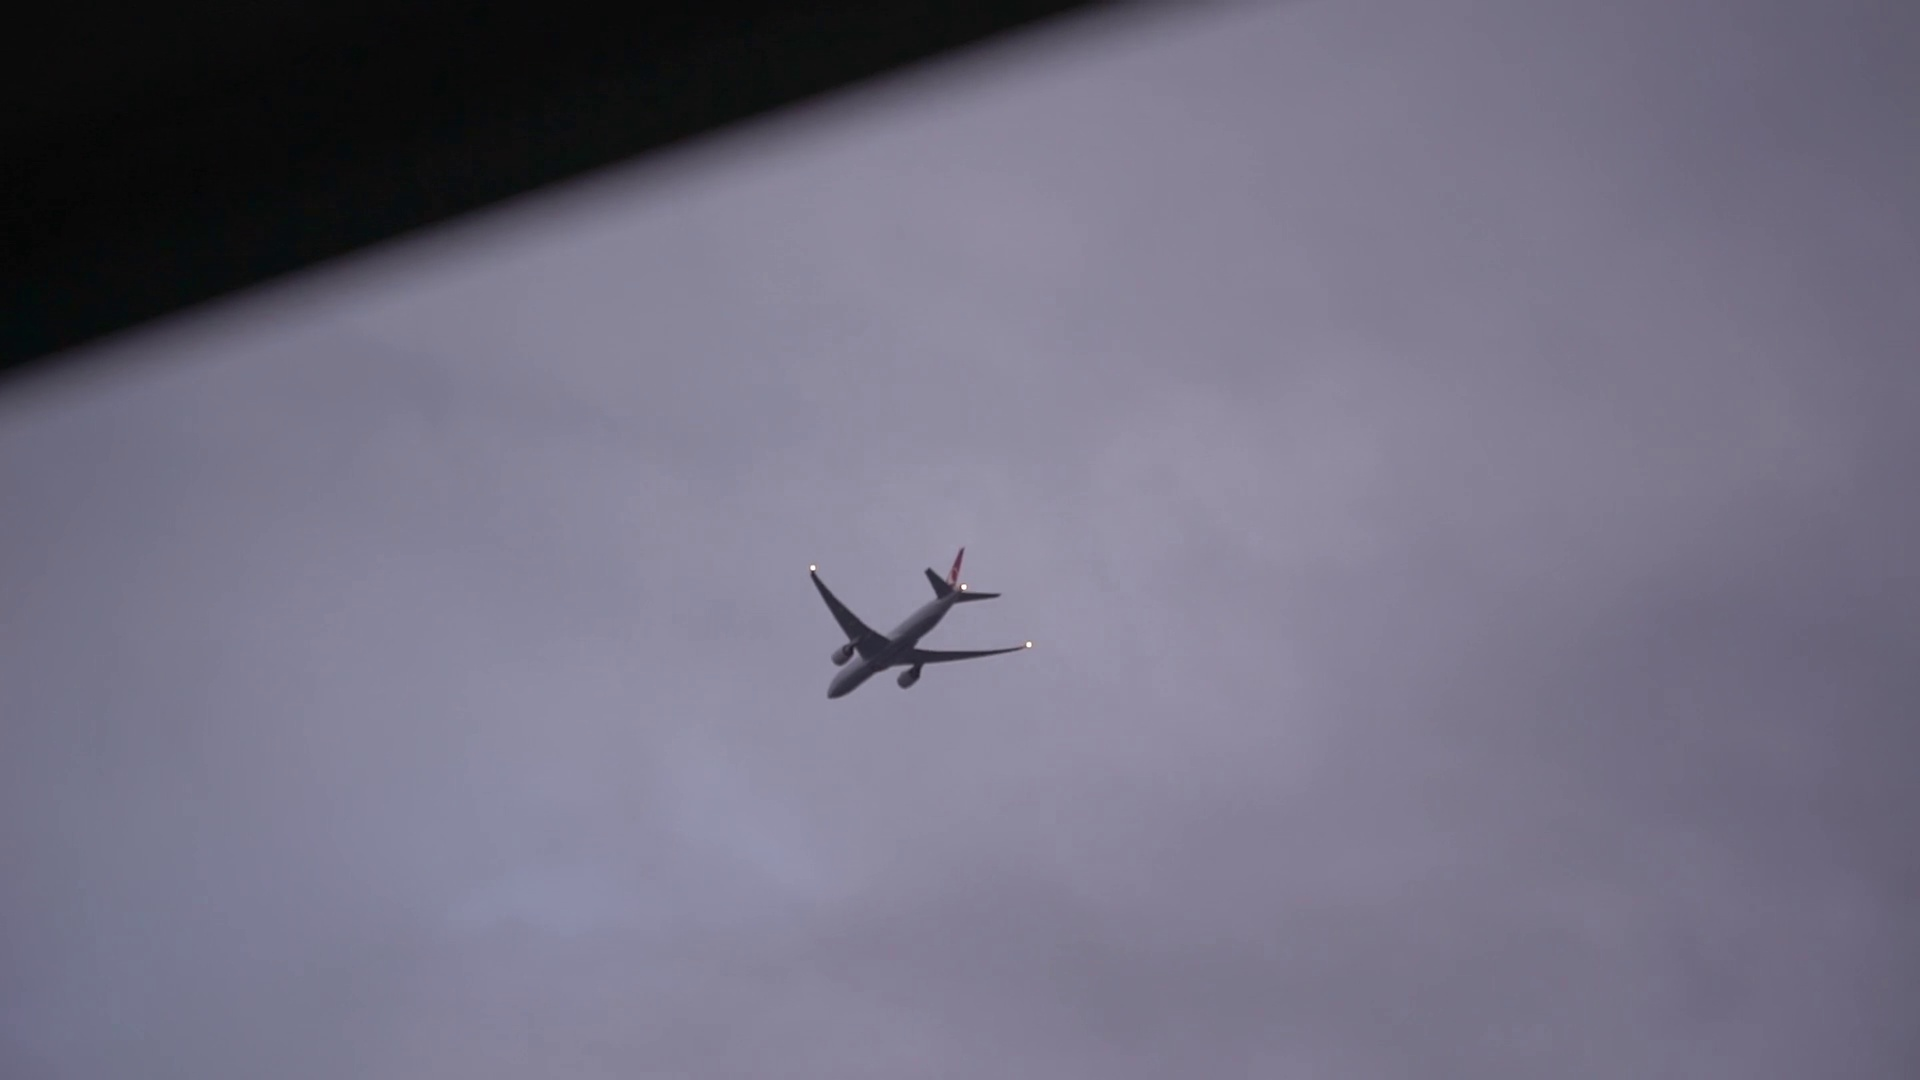plane: (807, 545, 1033, 700)
